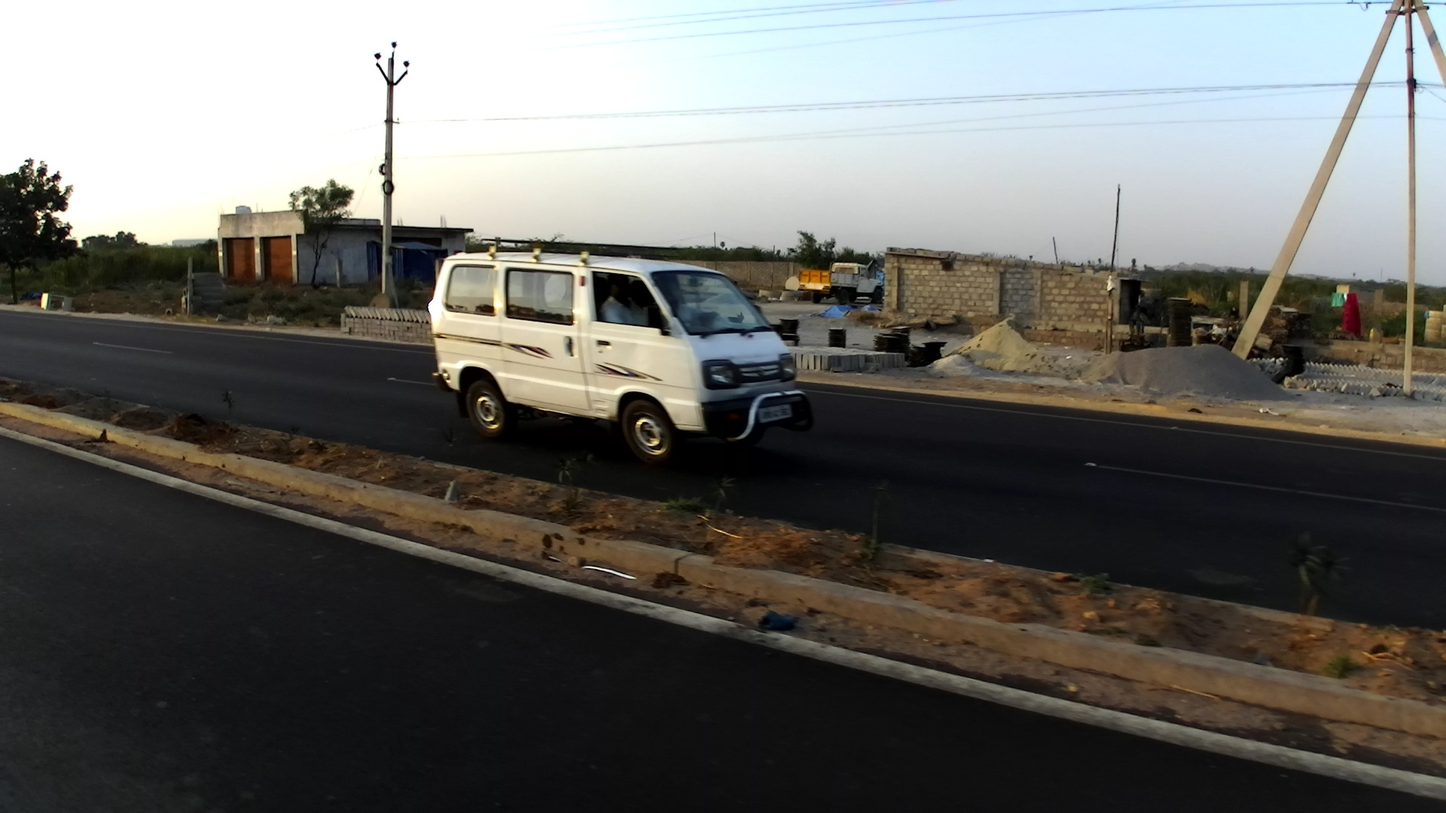car: (428, 233, 816, 467)
truck: (798, 258, 886, 306)
